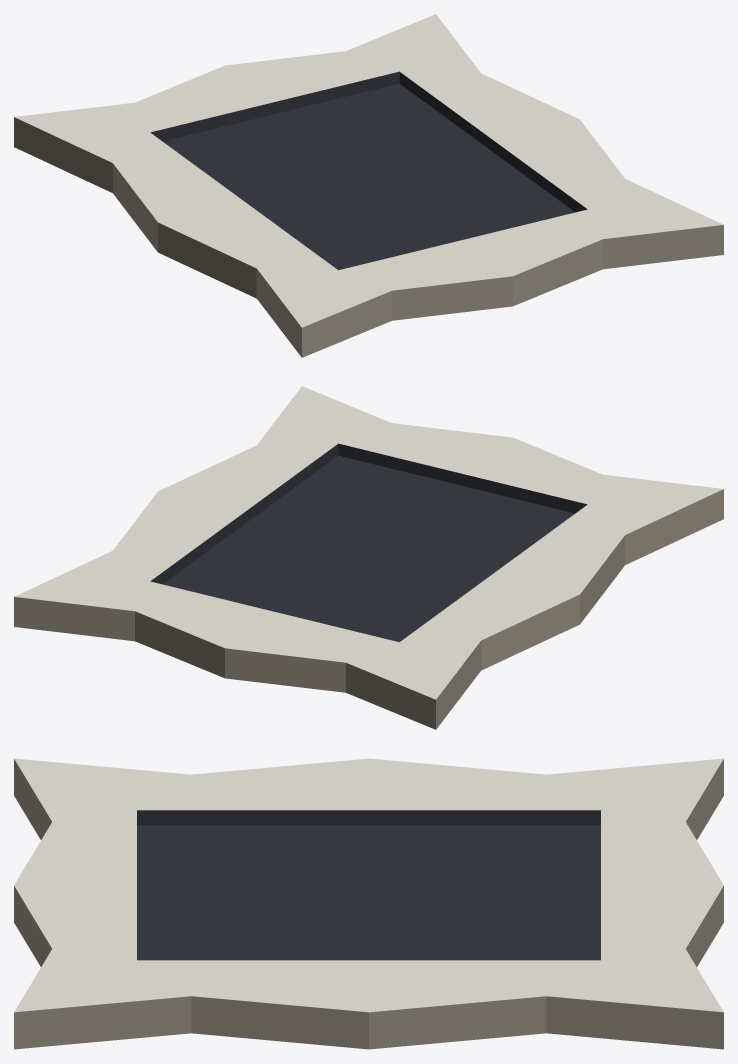
File: stamp.glb
3 views of the same model, one above another, from view 1: azimuth 30°, elevation 25°; view 2: azimuth 150°, elevation 25°; view 3: azimuth 270°, elevation 25° (orthographic). The views are drawn at different scales.
Visible parts, largest first — view 1: stamp; view 2: stamp; view 3: stamp.
Boxes of the visible parts, <box> form: stamp: <box>14,14,723,357</box>; stamp: <box>14,386,723,729</box>; stamp: <box>14,758,723,1049</box>.
Size of the model in its own units: 0.022 by 0.0015 by 0.026.
